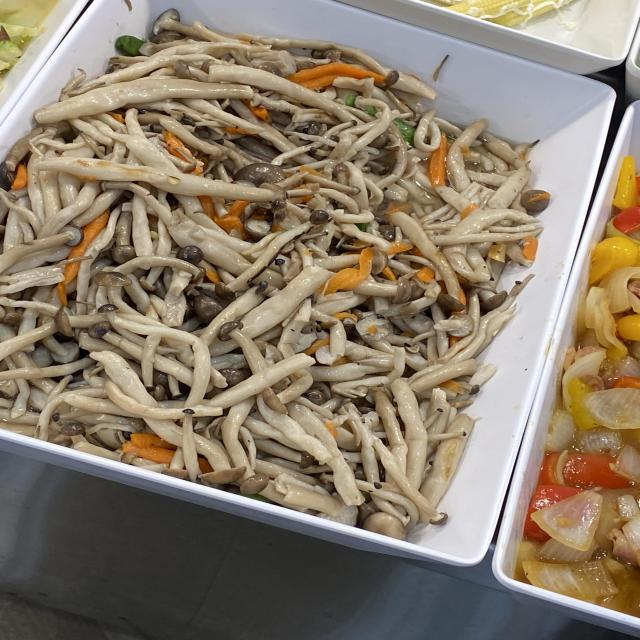brown swordbelt: (52, 114, 458, 405)
